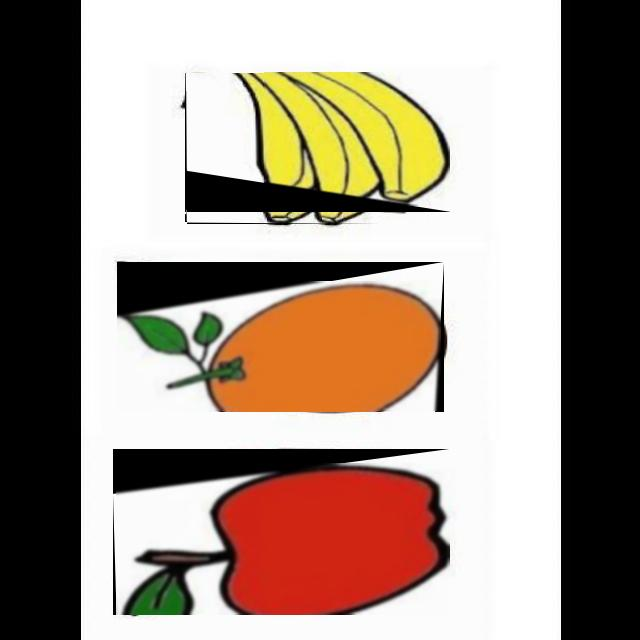Apple: (115, 464, 449, 615)
Banana: (186, 89, 379, 224), (263, 73, 449, 206), (185, 92, 307, 221)
Orange: (116, 282, 440, 411)
